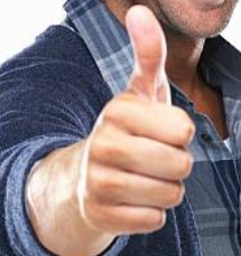best: (83, 5, 195, 236)
